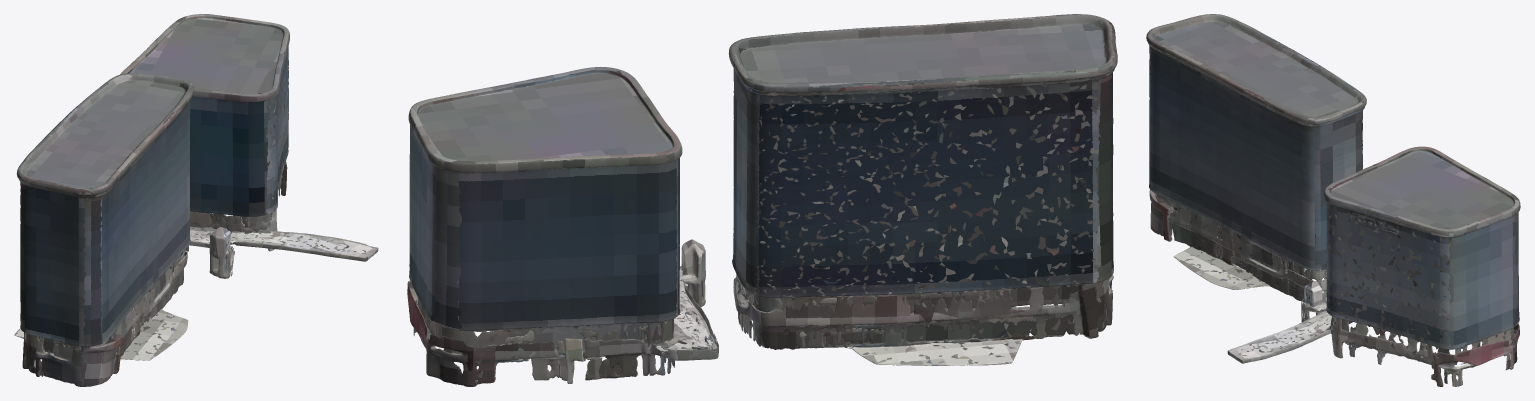
File: alparium.glb
3 renders of one model, left to right at view 1: azimuth 30°, elevation 25°; view 2: azimuth 150°, elevation 25°; view 3: azimuth 270°, elevation 25°, orthographic. The views are drawn at different scales.
Parts seen in each view (by area): view 1: input; view 2: input; view 3: input.
Boxes of the visible parts, x1,y1,x2,y2 form: input: (14, 14, 378, 386); input: (407, 14, 1117, 386); input: (1146, 14, 1520, 386).
Size of the model in its own units: 0.9997 by 0.4966 by 0.8571.
Materials: 1 (1 with a texture image).
